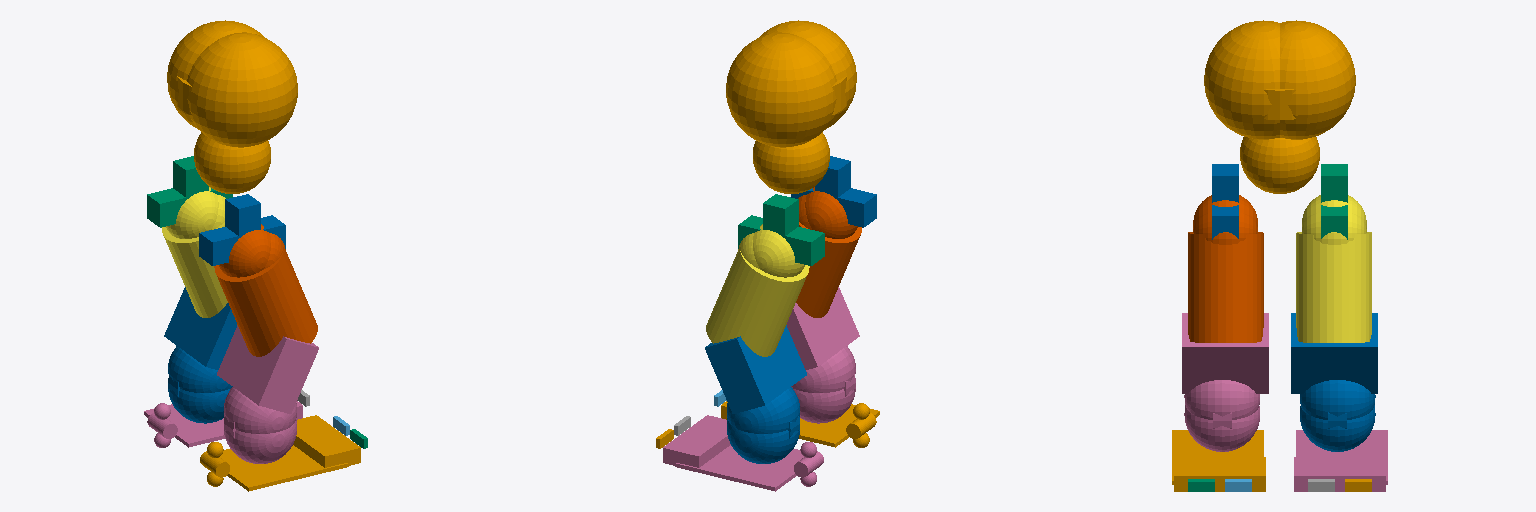
The robot description file, URDF, robot "[local-path]/Documents/synthpose-webots/dataset_generator/protos":
<?xml version="1.0"?>
<robot name="/home/rinaldo/Documents/synthpose-webots/dataset_generator/protos/nao_exported.urdf" xmlns:xacro="http://ros.org/wiki/xacro">
  <link name="base_link">
    <visual>
      <origin xyz="0 0 -0.02" rpy="0 0 0"/>
      <geometry>
        <sphere radius="0.037"/>
      </geometry>
    </visual>
    <collision>
      <origin xyz="0 0 -0.02" rpy="0 0 0"/>
      <geometry>
        <sphere radius="0.037"/>
      </geometry>
    </collision>
    <visual>
      <origin xyz="0 0 0.055" rpy="0 0 0"/>
      <geometry>
        <cylinder radius="0.055" length="0.03"/>
      </geometry>
    </visual>
    <collision>
      <origin xyz="0 0 0.055" rpy="0 0 0"/>
      <geometry>
        <cylinder radius="0.055" length="0.03"/>
      </geometry>
    </collision>
    <visual>
      <origin xyz="0 0.015 0.055" rpy="0 0 0"/>
      <geometry>
        <sphere radius="0.055"/>
      </geometry>
    </visual>
    <collision>
      <origin xyz="0 0.015 0.055" rpy="0 0 0"/>
      <geometry>
        <sphere radius="0.055"/>
      </geometry>
    </collision>
    <visual>
      <origin xyz="0 -0.015 0.055" rpy="0 0 0"/>
      <geometry>
        <sphere radius="0.055"/>
      </geometry>
    </visual>
    <collision>
      <origin xyz="0 -0.015 0.055" rpy="0 0 0"/>
      <geometry>
        <sphere radius="0.055"/>
      </geometry>
    </collision>
  </link>
  <joint name="LHipYawPitch" type="revolute">
    <parent link="base_link"/>
    <child link="LHip"/>
    <axis xyz="0 0.707107 -0.707107"/>
    <limit effort="14.8" lower="-1.14529" upper="0.740718" velocity="4.16174"/>
    <origin xyz="0 0.05 -0.085" rpy="0 -0.000001 0.000001"/>
  </joint>
  <link name="LHip">
  </link>
  <joint name="LHipRoll" type="revolute">
    <parent link="LHip"/>
    <child link="solid"/>
    <axis xyz="1 0 0"/>
    <limit effort="14.8" lower="-0.379435" upper="0.79046" velocity="4.16174"/>
    <origin xyz="0 0 0" rpy="0 0 0"/>
  </joint>
  <link name="solid">
    <visual>
      <origin xyz="-0.017 0 0.004" rpy="0 0 0"/>
      <geometry>
        <box size="0.025 0.025 0.074"/>
      </geometry>
    </visual>
    <collision>
      <origin xyz="-0.017 0 0.004" rpy="0 0 0"/>
      <geometry>
        <box size="0.025 0.025 0.074"/>
      </geometry>
    </collision>
    <visual>
      <origin xyz="-0.018 0 0" rpy="0 0 0"/>
      <geometry>
        <box size="0.08 0.025 0.025"/>
      </geometry>
    </visual>
    <collision>
      <origin xyz="-0.018 0 0" rpy="0 0 0"/>
      <geometry>
        <box size="0.08 0.025 0.025"/>
      </geometry>
    </collision>
  </link>
  <joint name="LHipPitch" type="revolute">
    <parent link="solid"/>
    <child link="solid_0"/>
    <axis xyz="0 1 0"/>
    <limit effort="9.8" lower="-1.77378" upper="0.48398" velocity="6.40239"/>
    <origin xyz="0 0 0" rpy="0 0 0"/>
  </joint>
  <link name="solid_0">
    <visual>
      <origin xyz="-0.009 0 -0.015" rpy="1.570803 -1.047198 -0.000004"/>
      <geometry>
        <cylinder radius="0.03" length="0.01"/>
      </geometry>
    </visual>
    <collision>
      <origin xyz="-0.009 0 -0.015" rpy="1.570803 -1.047198 -0.000004"/>
      <geometry>
        <cylinder radius="0.03" length="0.01"/>
      </geometry>
    </collision>
    <visual>
      <origin xyz="-0.01333 0 -0.0125" rpy="1.570803 -1.047198 -0.000004"/>
      <geometry>
        <sphere radius="0.03"/>
      </geometry>
    </visual>
    <collision>
      <origin xyz="-0.01333 0 -0.0125" rpy="1.570803 -1.047198 -0.000004"/>
      <geometry>
        <sphere radius="0.03"/>
      </geometry>
    </collision>
    <visual>
      <origin xyz="-0.00467 0 -0.0175" rpy="1.570803 -1.047198 -0.000004"/>
      <geometry>
        <sphere radius="0.03"/>
      </geometry>
    </visual>
    <collision>
      <origin xyz="-0.00467 0 -0.0175" rpy="1.570803 -1.047198 -0.000004"/>
      <geometry>
        <sphere radius="0.03"/>
      </geometry>
    </collision>
    <visual>
      <origin xyz="0.008 0 -0.066261" rpy="0 -0.383185 0"/>
      <geometry>
        <cylinder radius="0.035" length="0.1"/>
      </geometry>
    </visual>
    <collision>
      <origin xyz="0.008 0 -0.066261" rpy="0 -0.383185 0"/>
      <geometry>
        <cylinder radius="0.035" length="0.1"/>
      </geometry>
    </collision>
  </link>
  <joint name="LKneePitch" type="revolute">
    <parent link="solid_0"/>
    <child link="solid_1"/>
    <axis xyz="0 1 0"/>
    <limit effort="9.8" lower="-0.0923279" upper="2.11255" velocity="6.40239"/>
    <origin xyz="0 0 -0.1" rpy="0 -0.000001 0"/>
  </joint>
  <link name="solid_1">
    <visual>
      <origin xyz="0.01 0 -0.033" rpy="0 0.462 0"/>
      <geometry>
        <box size="0.04 0.08 0.07"/>
      </geometry>
    </visual>
    <collision>
      <origin xyz="0.01 0 -0.033" rpy="0 0.462 0"/>
      <geometry>
        <box size="0.04 0.08 0.07"/>
      </geometry>
    </collision>
    <visual>
      <origin xyz="0 0.003 -0.09" rpy="1.57 0 0"/>
      <geometry>
        <cylinder radius="0.035" length="0.018"/>
      </geometry>
    </visual>
    <collision>
      <origin xyz="0 0.003 -0.09" rpy="1.57 0 0"/>
      <geometry>
        <cylinder radius="0.035" length="0.018"/>
      </geometry>
    </collision>
    <visual>
      <origin xyz="0 0.003007 -0.081" rpy="1.57 0 0"/>
      <geometry>
        <sphere radius="0.035"/>
      </geometry>
    </visual>
    <collision>
      <origin xyz="0 0.003007 -0.081" rpy="1.57 0 0"/>
      <geometry>
        <sphere radius="0.035"/>
      </geometry>
    </collision>
    <visual>
      <origin xyz="0 0.002993 -0.099" rpy="1.57 0 0"/>
      <geometry>
        <sphere radius="0.035"/>
      </geometry>
    </visual>
    <collision>
      <origin xyz="0 0.002993 -0.099" rpy="1.57 0 0"/>
      <geometry>
        <sphere radius="0.035"/>
      </geometry>
    </collision>
  </link>
  <joint name="LAnklePitch" type="revolute">
    <parent link="solid_1"/>
    <child link="solid_2"/>
    <axis xyz="0 1 0"/>
    <limit effort="9.8" lower="-1.18944" upper="0.922581" velocity="6.40239"/>
    <origin xyz="0 0 -0.1029" rpy="0 -0.000001 0"/>
  </joint>
  <link name="solid_2">
  </link>
  <joint name="LAnkleRoll" type="revolute">
    <parent link="solid_2"/>
    <child link="solid_3"/>
    <axis xyz="1 0 0"/>
    <limit effort="14.8" lower="-0.39788" upper="0.769001" velocity="4.16174"/>
    <origin xyz="0 0 0" rpy="0 0 0"/>
  </joint>
  <link name="solid_3">
    <visual>
      <origin xyz="0.015 0.007 -0.033" rpy="0 0 0"/>
      <geometry>
        <box size="0.11 0.085 0.004"/>
      </geometry>
    </visual>
    <collision>
      <origin xyz="0.015 0.007 -0.033" rpy="0 0 0"/>
      <geometry>
        <box size="0.11 0.085 0.004"/>
      </geometry>
    </collision>
    <visual>
      <origin xyz="-0.048 0 -0.0245" rpy="-1.57 0 0"/>
      <geometry>
        <cylinder radius="0.008" length="0.03"/>
      </geometry>
    </visual>
    <collision>
      <origin xyz="-0.048 0 -0.0245" rpy="-1.57 0 0"/>
      <geometry>
        <cylinder radius="0.008" length="0.03"/>
      </geometry>
    </collision>
    <visual>
      <origin xyz="-0.048 0.000012 -0.0395" rpy="-1.57 0 0"/>
      <geometry>
        <sphere radius="0.008"/>
      </geometry>
    </visual>
    <collision>
      <origin xyz="-0.048 0.000012 -0.0395" rpy="-1.57 0 0"/>
      <geometry>
        <sphere radius="0.008"/>
      </geometry>
    </collision>
    <visual>
      <origin xyz="-0.048 -0.000012 -0.0095" rpy="-1.57 0 0"/>
      <geometry>
        <sphere radius="0.008"/>
      </geometry>
    </visual>
    <collision>
      <origin xyz="-0.048 -0.000012 -0.0095" rpy="-1.57 0 0"/>
      <geometry>
        <sphere radius="0.008"/>
      </geometry>
    </collision>
    <visual>
      <origin xyz="0.065 0.005 -0.027" rpy="0 0 0"/>
      <geometry>
        <box size="0.04 0.085 0.016"/>
      </geometry>
    </visual>
    <collision>
      <origin xyz="0.065 0.005 -0.027" rpy="0 0 0"/>
      <geometry>
        <box size="0.04 0.085 0.016"/>
      </geometry>
    </collision>
  </link>
  <link name="LFoot/Bumper/Right">
    <visual>
      <origin xyz="0.0075 0 0" rpy="0 0 0"/>
      <geometry>
        <box size="0.005 0.025 0.01"/>
      </geometry>
    </visual>
    <collision>
      <origin xyz="0.0075 0 0" rpy="0 0 0"/>
      <geometry>
        <box size="0.005 0.025 0.01"/>
      </geometry>
    </collision>
  </link>
  <joint name="solid_3_LFoot/Bumper/Right_joint" type="fixed">
    <parent link="solid_3"/>
    <child link="LFoot/Bumper/Right"/>
    <origin xyz="0.09 -0.012 -0.023" rpy="0 0 0"/>
  </joint>
  <link name="LFoot/Bumper/Left">
    <visual>
      <origin xyz="0.0075 0 0" rpy="0 0 0"/>
      <geometry>
        <box size="0.005 0.025 0.01"/>
      </geometry>
    </visual>
    <collision>
      <origin xyz="0.0075 0 0" rpy="0 0 0"/>
      <geometry>
        <box size="0.005 0.025 0.01"/>
      </geometry>
    </collision>
  </link>
  <joint name="solid_3_LFoot/Bumper/Left_joint" type="fixed">
    <parent link="solid_3"/>
    <child link="LFoot/Bumper/Left"/>
    <origin xyz="0.09 0.022 -0.023" rpy="0 0 0"/>
  </joint>
  <link name="LFoot/Led">
  </link>
  <joint name="solid_3_LFoot/Led_joint" type="fixed">
    <parent link="solid_3"/>
    <child link="LFoot/Led"/>
    <origin xyz="0 0 0" rpy="0 0 0"/>
  </joint>
  <link name="LFsr">
  </link>
  <joint name="solid_3_LFsr_joint" type="fixed">
    <parent link="solid_3"/>
    <child link="LFsr"/>
    <origin xyz="0.02 0.007 -0.040939" rpy="0 0 -3.141585"/>
  </joint>
  <joint name="RHipYawPitch" type="revolute">
    <parent link="base_link"/>
    <child link="RHip"/>
    <axis xyz="0 0.707107 0.707107"/>
    <limit effort="14.8" lower="-1.14529" upper="0.740718" velocity="4.16174"/>
    <origin xyz="0 -0.05 -0.085" rpy="0 -0.000001 -0.000001"/>
  </joint>
  <link name="RHip">
  </link>
  <joint name="RHipRoll" type="revolute">
    <parent link="RHip"/>
    <child link="solid_4"/>
    <axis xyz="1 0 0"/>
    <limit effort="14.8" lower="-0.738274" upper="0.449597" velocity="4.16174"/>
    <origin xyz="0 0 0" rpy="0 0 0"/>
  </joint>
  <link name="solid_4">
    <visual>
      <origin xyz="-0.017 0 0.004" rpy="0 0 0"/>
      <geometry>
        <box size="0.025 0.025 0.074"/>
      </geometry>
    </visual>
    <collision>
      <origin xyz="-0.017 0 0.004" rpy="0 0 0"/>
      <geometry>
        <box size="0.025 0.025 0.074"/>
      </geometry>
    </collision>
    <visual>
      <origin xyz="-0.018 0 0" rpy="0 0 0"/>
      <geometry>
        <box size="0.08 0.025 0.025"/>
      </geometry>
    </visual>
    <collision>
      <origin xyz="-0.018 0 0" rpy="0 0 0"/>
      <geometry>
        <box size="0.08 0.025 0.025"/>
      </geometry>
    </collision>
  </link>
  <joint name="RHipPitch" type="revolute">
    <parent link="solid_4"/>
    <child link="solid_5"/>
    <axis xyz="0 1 0"/>
    <limit effort="9.8" lower="-1.77378" upper="0.48398" velocity="6.40239"/>
    <origin xyz="0 0 0" rpy="0 0 0"/>
  </joint>
  <link name="solid_5">
    <visual>
      <origin xyz="-0.009 0 -0.015" rpy="1.570803 -1.047198 -0.000004"/>
      <geometry>
        <cylinder radius="0.03" length="0.01"/>
      </geometry>
    </visual>
    <collision>
      <origin xyz="-0.009 0 -0.015" rpy="1.570803 -1.047198 -0.000004"/>
      <geometry>
        <cylinder radius="0.03" length="0.01"/>
      </geometry>
    </collision>
    <visual>
      <origin xyz="-0.01333 0 -0.0125" rpy="1.570803 -1.047198 -0.000004"/>
      <geometry>
        <sphere radius="0.03"/>
      </geometry>
    </visual>
    <collision>
      <origin xyz="-0.01333 0 -0.0125" rpy="1.570803 -1.047198 -0.000004"/>
      <geometry>
        <sphere radius="0.03"/>
      </geometry>
    </collision>
    <visual>
      <origin xyz="-0.00467 0 -0.0175" rpy="1.570803 -1.047198 -0.000004"/>
      <geometry>
        <sphere radius="0.03"/>
      </geometry>
    </visual>
    <collision>
      <origin xyz="-0.00467 0 -0.0175" rpy="1.570803 -1.047198 -0.000004"/>
      <geometry>
        <sphere radius="0.03"/>
      </geometry>
    </collision>
    <visual>
      <origin xyz="0.008 0 -0.066261" rpy="0 -0.383185 0"/>
      <geometry>
        <cylinder radius="0.035" length="0.1"/>
      </geometry>
    </visual>
    <collision>
      <origin xyz="0.008 0 -0.066261" rpy="0 -0.383185 0"/>
      <geometry>
        <cylinder radius="0.035" length="0.1"/>
      </geometry>
    </collision>
  </link>
  <joint name="RKneePitch" type="revolute">
    <parent link="solid_5"/>
    <child link="solid_6"/>
    <axis xyz="0 1 0"/>
    <limit effort="9.8" lower="-0.0923279" upper="2.11255" velocity="6.40239"/>
    <origin xyz="0 0 -0.1" rpy="0 -0.000001 0"/>
  </joint>
  <link name="solid_6">
    <visual>
      <origin xyz="0.01 0 -0.033" rpy="0 0.462 0"/>
      <geometry>
        <box size="0.04 0.08 0.07"/>
      </geometry>
    </visual>
    <collision>
      <origin xyz="0.01 0 -0.033" rpy="0 0.462 0"/>
      <geometry>
        <box size="0.04 0.08 0.07"/>
      </geometry>
    </collision>
    <visual>
      <origin xyz="0 -0.003 -0.09" rpy="1.57 0 0"/>
      <geometry>
        <cylinder radius="0.035" length="0.018"/>
      </geometry>
    </visual>
    <collision>
      <origin xyz="0 -0.003 -0.09" rpy="1.57 0 0"/>
      <geometry>
        <cylinder radius="0.035" length="0.018"/>
      </geometry>
    </collision>
    <visual>
      <origin xyz="0 -0.002993 -0.081" rpy="1.57 0 0"/>
      <geometry>
        <sphere radius="0.035"/>
      </geometry>
    </visual>
    <collision>
      <origin xyz="0 -0.002993 -0.081" rpy="1.57 0 0"/>
      <geometry>
        <sphere radius="0.035"/>
      </geometry>
    </collision>
    <visual>
      <origin xyz="0 -0.003007 -0.099" rpy="1.57 0 0"/>
      <geometry>
        <sphere radius="0.035"/>
      </geometry>
    </visual>
    <collision>
      <origin xyz="0 -0.003007 -0.099" rpy="1.57 0 0"/>
      <geometry>
        <sphere radius="0.035"/>
      </geometry>
    </collision>
  </link>
  <joint name="RAnklePitch" type="revolute">
    <parent link="solid_6"/>
    <child link="solid_7"/>
    <axis xyz="0 1 0"/>
    <limit effort="9.8" lower="-1.1863" upper="0.932006" velocity="6.40239"/>
    <origin xyz="0 0 -0.1029" rpy="0 -0.000001 0"/>
  </joint>
  <link name="solid_7">
  </link>
  <joint name="RAnkleRoll" type="revolute">
    <parent link="solid_7"/>
    <child link="solid_8"/>
    <axis xyz="1 0 0"/>
    <limit effort="14.8" lower="-0.768992" upper="0.397935" velocity="4.16174"/>
    <origin xyz="0 0 0" rpy="0 0 0"/>
  </joint>
  <link name="solid_8">
    <visual>
      <origin xyz="0.015 -0.007 -0.033" rpy="0 0 0"/>
      <geometry>
        <box size="0.11 0.085 0.004"/>
      </geometry>
    </visual>
    <collision>
      <origin xyz="0.015 -0.007 -0.033" rpy="0 0 0"/>
      <geometry>
        <box size="0.11 0.085 0.004"/>
      </geometry>
    </collision>
    <visual>
      <origin xyz="-0.048 0 -0.0245" rpy="-1.57 0 0"/>
      <geometry>
        <cylinder radius="0.008" length="0.03"/>
      </geometry>
    </visual>
    <collision>
      <origin xyz="-0.048 0 -0.0245" rpy="-1.57 0 0"/>
      <geometry>
        <cylinder radius="0.008" length="0.03"/>
      </geometry>
    </collision>
    <visual>
      <origin xyz="-0.048 0.000012 -0.0395" rpy="-1.57 0 0"/>
      <geometry>
        <sphere radius="0.008"/>
      </geometry>
    </visual>
    <collision>
      <origin xyz="-0.048 0.000012 -0.0395" rpy="-1.57 0 0"/>
      <geometry>
        <sphere radius="0.008"/>
      </geometry>
    </collision>
    <visual>
      <origin xyz="-0.048 -0.000012 -0.0095" rpy="-1.57 0 0"/>
      <geometry>
        <sphere radius="0.008"/>
      </geometry>
    </visual>
    <collision>
      <origin xyz="-0.048 -0.000012 -0.0095" rpy="-1.57 0 0"/>
      <geometry>
        <sphere radius="0.008"/>
      </geometry>
    </collision>
    <visual>
      <origin xyz="0.065 -0.005 -0.027" rpy="0 0 0"/>
      <geometry>
        <box size="0.04 0.085 0.016"/>
      </geometry>
    </visual>
    <collision>
      <origin xyz="0.065 -0.005 -0.027" rpy="0 0 0"/>
      <geometry>
        <box size="0.04 0.085 0.016"/>
      </geometry>
    </collision>
  </link>
  <link name="RFoot/Bumper/Left">
    <visual>
      <origin xyz="0.0075 0 0" rpy="0 0 0"/>
      <geometry>
        <box size="0.005 0.025 0.01"/>
      </geometry>
    </visual>
    <collision>
      <origin xyz="0.0075 0 0" rpy="0 0 0"/>
      <geometry>
        <box size="0.005 0.025 0.01"/>
      </geometry>
    </collision>
  </link>
  <joint name="solid_8_RFoot/Bumper/Left_joint" type="fixed">
    <parent link="solid_8"/>
    <child link="RFoot/Bumper/Left"/>
    <origin xyz="0.09 0.012 -0.023" rpy="0 0 0"/>
  </joint>
  <link name="RFoot/Bumper/Right">
    <visual>
      <origin xyz="0.0075 0 0" rpy="0 0 0"/>
      <geometry>
        <box size="0.005 0.025 0.01"/>
      </geometry>
    </visual>
    <collision>
      <origin xyz="0.0075 0 0" rpy="0 0 0"/>
      <geometry>
        <box size="0.005 0.025 0.01"/>
      </geometry>
    </collision>
  </link>
  <joint name="solid_8_RFoot/Bumper/Right_joint" type="fixed">
    <parent link="solid_8"/>
    <child link="RFoot/Bumper/Right"/>
    <origin xyz="0.09 -0.022 -0.023" rpy="0 0 0"/>
  </joint>
  <link name="RFoot/Led">
  </link>
  <joint name="solid_8_RFoot/Led_joint" type="fixed">
    <parent link="solid_8"/>
    <child link="RFoot/Led"/>
    <origin xyz="0 0 0" rpy="0 0 0"/>
  </joint>
  <link name="RFsr">
  </link>
  <joint name="solid_8_RFsr_joint" type="fixed">
    <parent link="solid_8"/>
    <child link="RFsr"/>
    <origin xyz="0.02 -0.007 -0.040939" rpy="0 0 -3.141585"/>
  </joint>
  <link name="Sonar/Left">
  </link>
  <joint name="base_link_Sonar/Left_joint" type="fixed">
    <parent link="base_link"/>
    <child link="Sonar/Left"/>
    <origin xyz="0.0477 0.0416 0.0509" rpy="0.112752 0.23678 0.449726"/>
  </joint>
  <link name="Sonar/Right">
  </link>
  <joint name="base_link_Sonar/Right_joint" type="fixed">
    <parent link="base_link"/>
    <child link="Sonar/Right"/>
    <origin xyz="0.0477 -0.0416 0.0509" rpy="-0.112752 0.23678 -0.449726"/>
  </joint>
  <link name="inertial unit">
  </link>
  <joint name="base_link_inertial unit_joint" type="fixed">
    <parent link="base_link"/>
    <child link="inertial unit"/>
    <origin xyz="-0.008 0.006 0.029" rpy="1.5708 0 0"/>
  </joint>
  <link name="gyro">
  </link>
  <joint name="base_link_gyro_joint" type="fixed">
    <parent link="base_link"/>
    <child link="gyro"/>
    <origin xyz="-0.008 0.006 0.029" rpy="0 0 0"/>
  </joint>
  <link name="accelerometer">
  </link>
  <joint name="base_link_accelerometer_joint" type="fixed">
    <parent link="base_link"/>
    <child link="accelerometer"/>
    <origin xyz="-0.008 0.00606 0.027" rpy="3.14159 0 0"/>
  </joint>
  <link name="super_emitter">
  </link>
  <joint name="base_link_super_emitter_joint" type="fixed">
    <parent link="base_link"/>
    <child link="super_emitter"/>
    <origin xyz="0 0 0" rpy="0 0 0"/>
  </joint>
  <link name="emitter">
  </link>
  <joint name="base_link_emitter_joint" type="fixed">
    <parent link="base_link"/>
    <child link="emitter"/>
    <origin xyz="0 0 0" rpy="0 0 0"/>
  </joint>
  <link name="receiver">
  </link>
  <joint name="base_link_receiver_joint" type="fixed">
    <parent link="base_link"/>
    <child link="receiver"/>
    <origin xyz="0 0 0" rpy="0 0 0"/>
  </joint>
  <link name="gps">
  </link>
  <joint name="base_link_gps_joint" type="fixed">
    <parent link="base_link"/>
    <child link="gps"/>
    <origin xyz="0 0 0" rpy="0 0 0"/>
  </joint>
  <link name="ChestBoard/Led">
  </link>
  <joint name="base_link_ChestBoard/Led_joint" type="fixed">
    <parent link="base_link"/>
    <child link="ChestBoard/Led"/>
    <origin xyz="0.053 0 0.058" rpy="0 0 0"/>
  </joint>

  <!-- HEAD -->
  <link name="neck_link"/>
  <joint name="HeadYaw" type="revolute">
    <parent link="base_link"/>
    <child link="neck_link"/>
    <axis xyz="0 0 1"/>
    <limit effort="3.3" lower="-2.0857" upper="2.0857" velocity="8.26797"/>
    <origin xyz="0 0 0.1265" rpy="0 0 0"/>
  </joint>
  <link name="head_link"/>
  <joint name="HeadPitch" type="revolute">
    <parent link="neck_link"/>
    <child link="head_link"/>
    <axis xyz="0 1 0"/>
    <limit effort="3.3" lower="-0.6720" upper="0.5149" velocity="7.19407"/>
    <origin xyz="0 0 0" rpy="0 0 0"/>
  </joint>

  <!-- LEFT ARM -->
  <link name="LShoulder1_link"/>
  <joint name="LShoulderPitch" type="revolute">
    <parent link="base_link"/>
    <child link="LShoulder1_link"/>
    <axis xyz="0 1 0"/>
    <limit effort="3.3" lower="-2.0857" upper="2.0857" velocity="8.26797"/>
    <origin xyz="0 0.098 0.1" rpy="0 0 0"/>
  </joint>
  <link name="LShoulder_link"/>
  <joint name="LShoulderRoll" type="revolute">
    <parent link="LShoulder1_link"/>
    <child link="LShoulder_link"/>
    <axis xyz="0 0 1"/>
    <limit effort="3.3" lower="-0.3142" upper="1.3265" velocity="7.19407"/>
    <origin xyz="0 0 0" rpy="0 0 0"/>
  </joint>
  <link name="LElbow_link"/>
  <joint name="LElbowYaw" type="revolute">
    <parent link="LShoulder_link"/>
    <child link="LElbow_link"/>
    <axis xyz="1 0 0"/>
    <limit effort="4.0" lower="-2.0857" upper="2.0857" velocity="8.26797"/>
    <origin xyz="0.105 0.015 0" rpy="0 0 0"/>
  </joint>
  <link name="LForearm_link"/>
  <joint name="LElbowRoll" type="revolute">
    <parent link="LElbow_link"/>
    <child link="LForearm_link"/>
    <axis xyz="0 0 1"/>
    <limit effort="5.0" lower="-1.5446" upper="0.0" velocity="7.19407"/>
    <origin xyz="0 0 0" rpy="0 0 0"/>
  </joint>
  <link name="LHand_link"/>
  <joint name="LWristYaw" type="revolute">
    <parent link="LForearm_link"/>
    <child link="LHand_link"/>
    <axis xyz="1 0 0"/>
    <limit effort="1.5" lower="-1.8239" upper="1.8239" velocity="24.6229"/>
    <origin xyz="0.05595 0 0" rpy="0 0 0"/>
  </joint>

  <!-- RIGHT ARM -->
  <link name="RShoulder1_link"/>
  <joint name="RShoulderPitch" type="revolute">
    <parent link="base_link"/>
    <child link="RShoulder1_link"/>
    <axis xyz="0 1 0"/>
    <limit effort="3.3" lower="-2.0857" upper="2.0857" velocity="8.26797"/>
    <origin xyz="0 -0.098 0.1" rpy="0 0 0"/>
  </joint>
  <link name="RShoulder_link"/>
  <joint name="RShoulderRoll" type="revolute">
    <parent link="RShoulder1_link"/>
    <child link="RShoulder_link"/>
    <axis xyz="0 0 1"/>
    <limit effort="3.3" lower="-1.3265" upper="0.3142" velocity="7.19407"/>
    <origin xyz="0 0 0" rpy="0 0 0"/>
  </joint>
  <link name="RElbow_link"/>
  <joint name="RElbowYaw" type="revolute">
    <parent link="RShoulder_link"/>
    <child link="RElbow_link"/>
    <axis xyz="1 0 0"/>
    <limit effort="4.0" lower="-2.0857" upper="2.0857" velocity="8.26797"/>
    <origin xyz="0.105 -0.015 0" rpy="0 0 0"/>
  </joint>
  <link name="RForearm_link"/>
  <joint name="RElbowRoll" type="revolute">
    <parent link="RElbow_link"/>
    <child link="RForearm_link"/>
    <axis xyz="0 0 1"/>
    <limit effort="5.0" lower="0.0" upper="1.5446" velocity="7.19407"/>
    <origin xyz="0 0 0" rpy="0 0 0"/>
  </joint>
  <link name="RHand_link"/>
  <joint name="RWristYaw" type="revolute">
    <parent link="RForearm_link"/>
    <child link="RHand_link"/>
    <axis xyz="1 0 0"/>
    <limit effort="1.5" lower="-1.8239" upper="1.8239" velocity="24.6229"/>
    <origin xyz="0.05595 0 0" rpy="0 0 0"/>
  </joint>
</robot>

--- Facts derived from the render (not from the file) ---
Views: 3 orthographic renders of the robot side by side, from view 1: azimuth 30°, elevation 25°; view 2: azimuth 150°, elevation 25°; view 3: azimuth 270°, elevation 25°.
Robot: [local-path]/Documents/synthpose-webots/dataset_generator/protos — 43 links, 42 joints (24 revolute, 18 fixed); root link base_link; default pose: all joints at 0.
Links seen in each view (by area): view 1: base_link, solid_6, solid_5, solid_1, solid_8, solid_0, solid_4, solid_3, solid; view 2: base_link, solid_1, solid_0, solid_6, solid_3, solid_5, solid, solid_8, solid_4; view 3: base_link, solid_0, solid_5, solid_1, solid_6, solid_8, solid_3, solid, solid_4.
Boxes of the visible links, x1,y1,x2,y2 form: base_link: [167, 20, 297, 193]; solid_6: [217, 325, 318, 463]; solid_5: [214, 224, 317, 356]; solid_1: [164, 287, 236, 423]; solid_8: [200, 415, 360, 491]; solid_0: [162, 187, 227, 317]; solid_4: [199, 194, 285, 265]; solid_3: [144, 401, 302, 447]; solid: [147, 156, 232, 227]; base_link: [726, 20, 856, 193]; solid_1: [705, 325, 806, 463]; solid_0: [706, 224, 809, 356]; solid_6: [787, 287, 859, 423]; solid_3: [663, 415, 823, 491]; solid_5: [796, 187, 861, 317]; solid: [738, 194, 824, 265]; solid_8: [721, 401, 879, 447]; solid_4: [791, 156, 876, 227]; base_link: [1204, 20, 1355, 193]; solid_0: [1296, 195, 1371, 342]; solid_5: [1188, 195, 1263, 342]; solid_1: [1291, 313, 1377, 451]; solid_6: [1182, 313, 1268, 451]; solid_8: [1172, 430, 1265, 491]; solid_3: [1294, 430, 1387, 491]; solid: [1321, 164, 1347, 239]; solid_4: [1212, 164, 1238, 239].
Size in the robot's own frame: 0.158 by 0.199 by 0.4454 metres.
Geometry: primitives only (box / cylinder / sphere), no mesh files.
